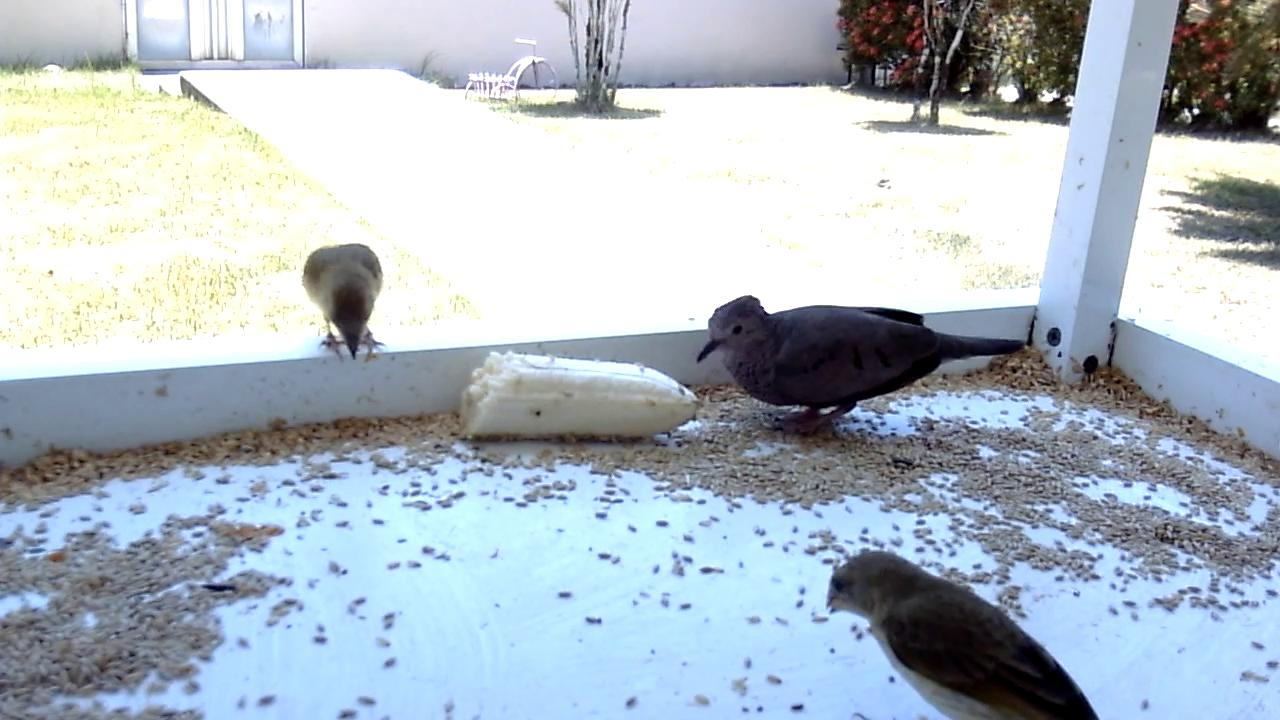canario_do_amazonas: (823, 551, 1100, 720), (300, 242, 389, 366)
rolinha: (695, 294, 1026, 435)
